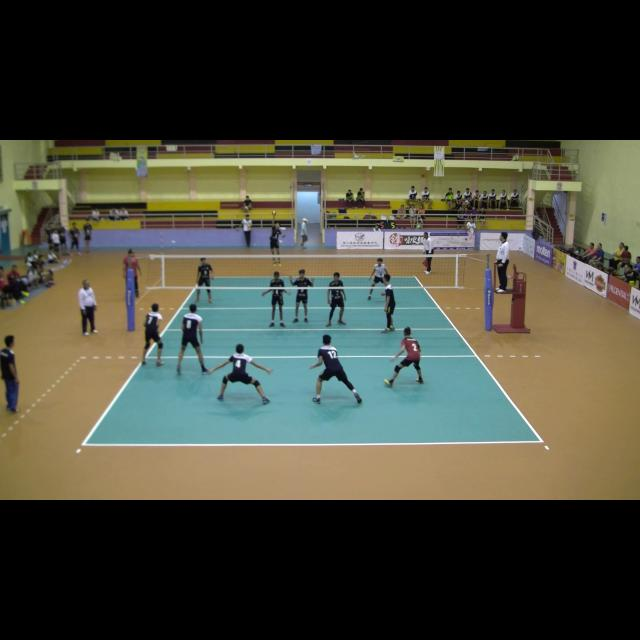head: (44, 224, 56, 256), (5, 336, 15, 348), (322, 334, 332, 346), (499, 232, 508, 242), (152, 303, 160, 313), (236, 344, 244, 354), (383, 274, 391, 284), (403, 328, 411, 337), (83, 280, 91, 288), (128, 249, 136, 257), (190, 305, 198, 313), (298, 270, 306, 278), (334, 273, 341, 281), (274, 272, 280, 280), (377, 258, 383, 266), (619, 242, 625, 250), (623, 246, 629, 254), (201, 258, 207, 264), (12, 265, 18, 271), (302, 219, 308, 225), (589, 243, 595, 249), (597, 243, 603, 249), (424, 233, 428, 239), (86, 219, 90, 225), (360, 188, 364, 194), (466, 188, 470, 194), (54, 230, 58, 234), (58, 223, 62, 227), (73, 223, 77, 227), (246, 196, 250, 200), (246, 216, 250, 220), (276, 224, 280, 228), (348, 190, 352, 194), (401, 205, 405, 209), (411, 187, 415, 191), (424, 188, 428, 192), (411, 205, 415, 209), (420, 205, 424, 209), (449, 188, 453, 192), (457, 192, 461, 196), (467, 197, 471, 201), (460, 207, 464, 211), (464, 208, 468, 212), (470, 218, 474, 222), (472, 207, 476, 211), (476, 191, 480, 195), (484, 192, 488, 196), (491, 190, 495, 194), (502, 190, 506, 194), (514, 191, 518, 195), (482, 208, 484, 212)
person: (206, 343, 274, 405), (309, 334, 363, 406), (383, 326, 425, 388), (176, 304, 210, 376), (261, 271, 293, 329), (0, 333, 20, 414), (288, 268, 316, 324), (142, 303, 164, 367), (324, 272, 348, 328), (77, 279, 99, 337), (122, 248, 144, 300), (367, 258, 391, 302), (379, 273, 396, 335), (193, 256, 214, 304), (269, 212, 287, 268), (494, 232, 510, 294), (6, 264, 28, 306), (607, 241, 627, 277), (235, 214, 253, 250), (612, 245, 632, 277), (68, 222, 84, 258), (423, 231, 435, 275), (588, 243, 604, 273), (58, 222, 70, 258), (582, 242, 598, 268), (44, 224, 56, 256), (83, 218, 93, 255), (299, 217, 309, 251), (406, 185, 420, 209), (420, 187, 434, 211), (443, 187, 455, 213), (465, 217, 477, 241), (498, 188, 510, 212), (51, 228, 61, 256), (345, 188, 357, 210), (354, 188, 366, 210), (408, 204, 418, 230), (416, 204, 426, 230), (394, 203, 408, 221), (463, 188, 473, 212), (456, 207, 466, 229), (472, 190, 482, 212), (488, 189, 498, 211), (242, 194, 254, 212), (480, 190, 490, 210), (510, 189, 520, 209), (462, 195, 473, 213), (479, 207, 487, 231), (455, 191, 463, 211), (470, 206, 478, 226), (463, 207, 471, 221)
